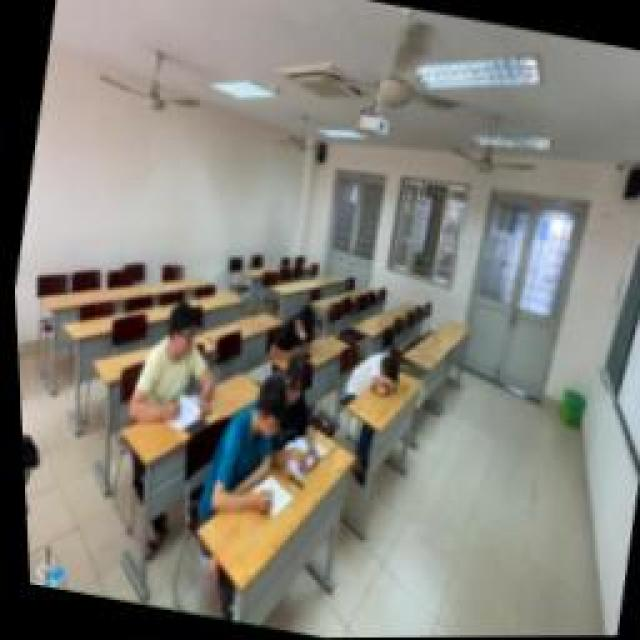sleep: (342, 340, 408, 405)
study: (110, 300, 228, 440), (192, 372, 290, 530), (245, 342, 325, 470), (263, 300, 315, 362)
